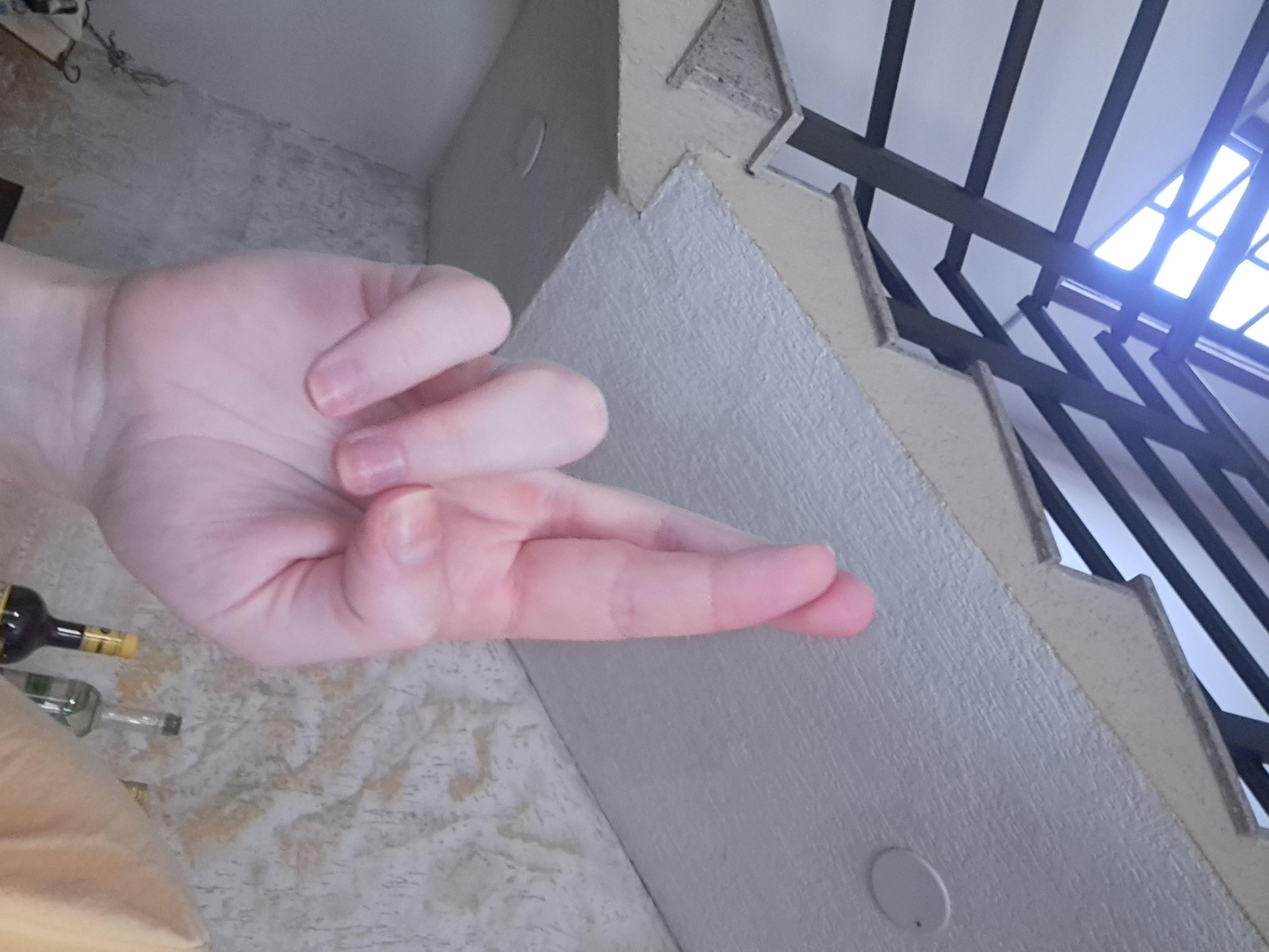R: (332, 289, 918, 866)
